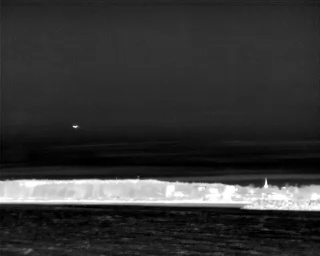BIRD: (71, 122, 81, 132)
